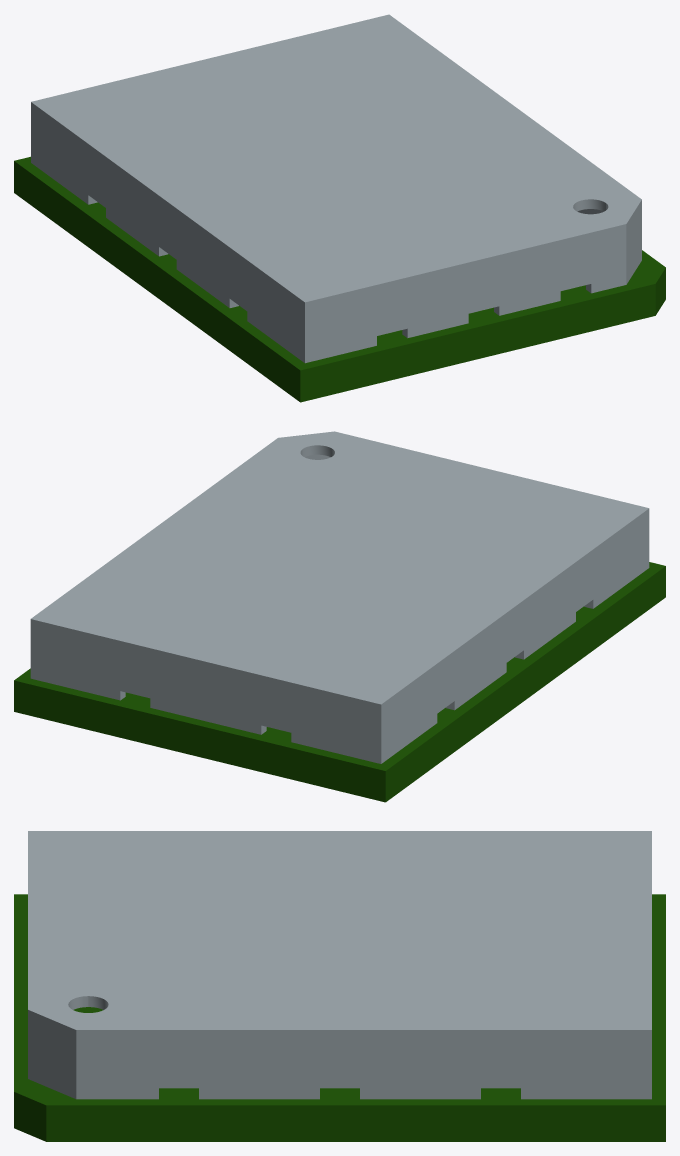
File: sfe-p23m.glb
3 renders of one model, top to bottom at view 1: azimuth 30°, elevation 25°; view 2: azimuth 150°, elevation 25°; view 3: azimuth 270°, elevation 25°, orthographic. The views are drawn at different scales.
Visible parts, largest first — view 1: 0.3333333333333333_0.4166666666666667_0.4166666666666667_0, 0_0.08333333333333333_0_0; view 2: 0.3333333333333333_0.4166666666666667_0.4166666666666667_0, 0_0.08333333333333333_0_0; view 3: 0.3333333333333333_0.4166666666666667_0.4166666666666667_0, 0_0.08333333333333333_0_0.
Boxes of the visible parts, box(x1,y1,x2,y2) form: 0.3333333333333333_0.4166666666666667_0.4166666666666667_0: box(31, 14, 641, 363); 0_0.08333333333333333_0_0: box(14, 156, 665, 402); 0.3333333333333333_0.4166666666666667_0.4166666666666667_0: box(30, 431, 649, 763); 0_0.08333333333333333_0_0: box(14, 562, 665, 802); 0.3333333333333333_0.4166666666666667_0.4166666666666667_0: box(28, 831, 651, 1099); 0_0.08333333333333333_0_0: box(14, 894, 665, 1141).
Bounding box in the file's own units: 1.24 × 0.29 × 1.62.
